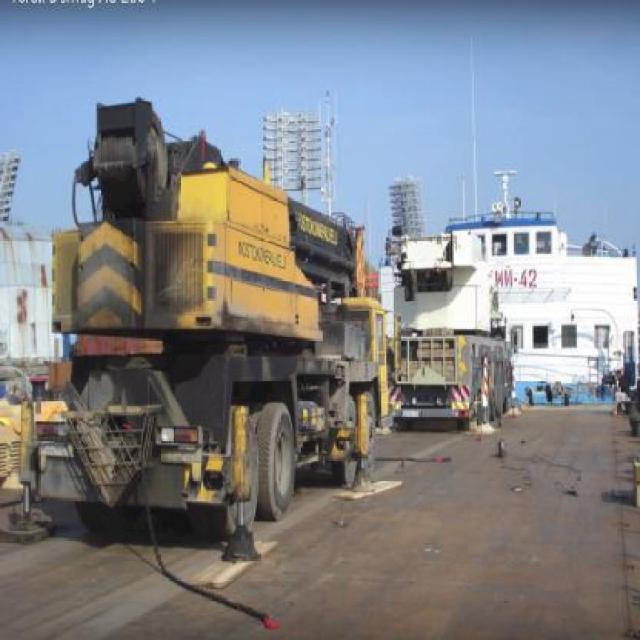Mobile Crane: (5, 98, 390, 551)
